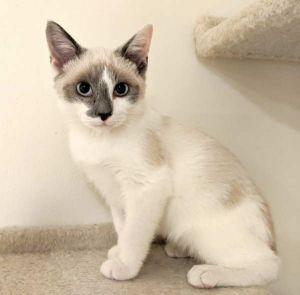siamese: (41, 17, 161, 139)
